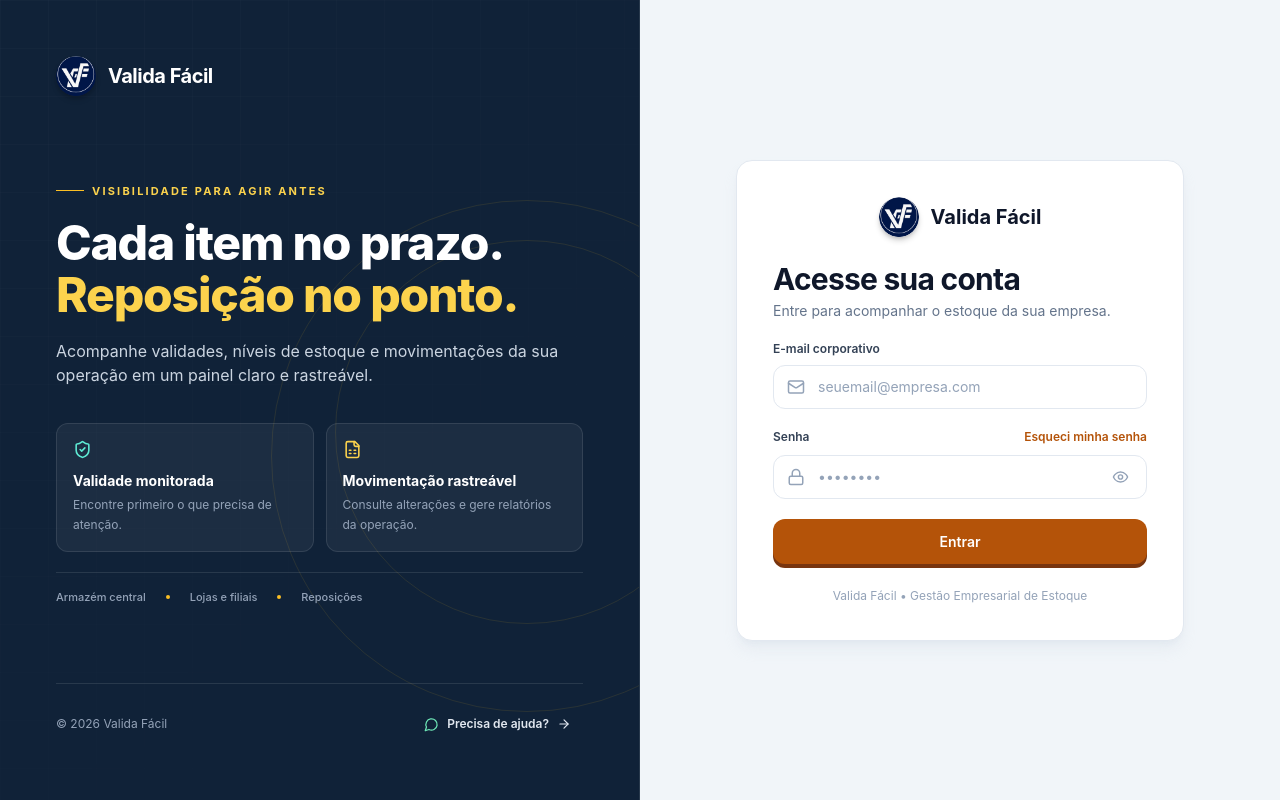
LoginPage › permite conferir e ocultar a senha usando um controle acessível
Check: the button "Entrar" is enabled, box [773, 518, 1147, 564]
Type "senha-segura" into the password field labelled "Senha" at coordinates (960, 476), box [773, 454, 1147, 498]
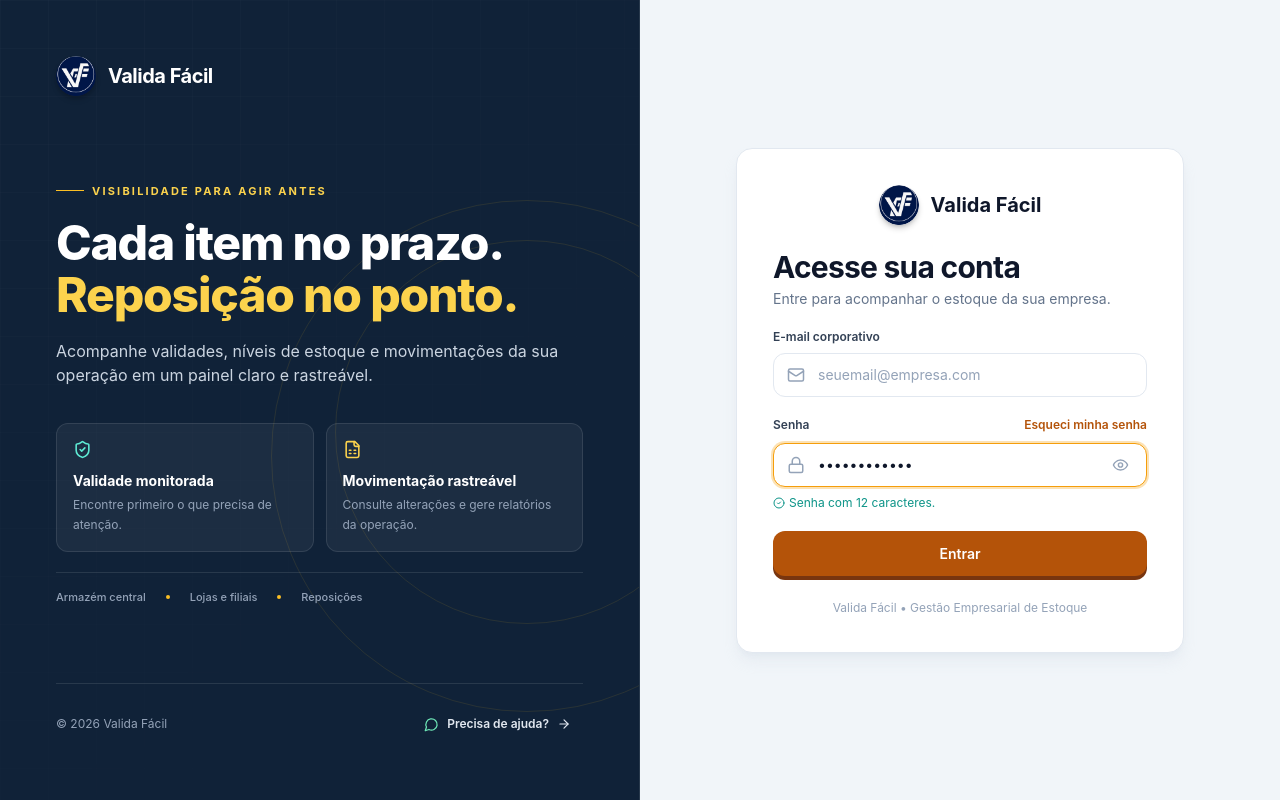
Click the button named "Mostrar senha" at coordinates (1120, 464), box [1108, 452, 1133, 477]
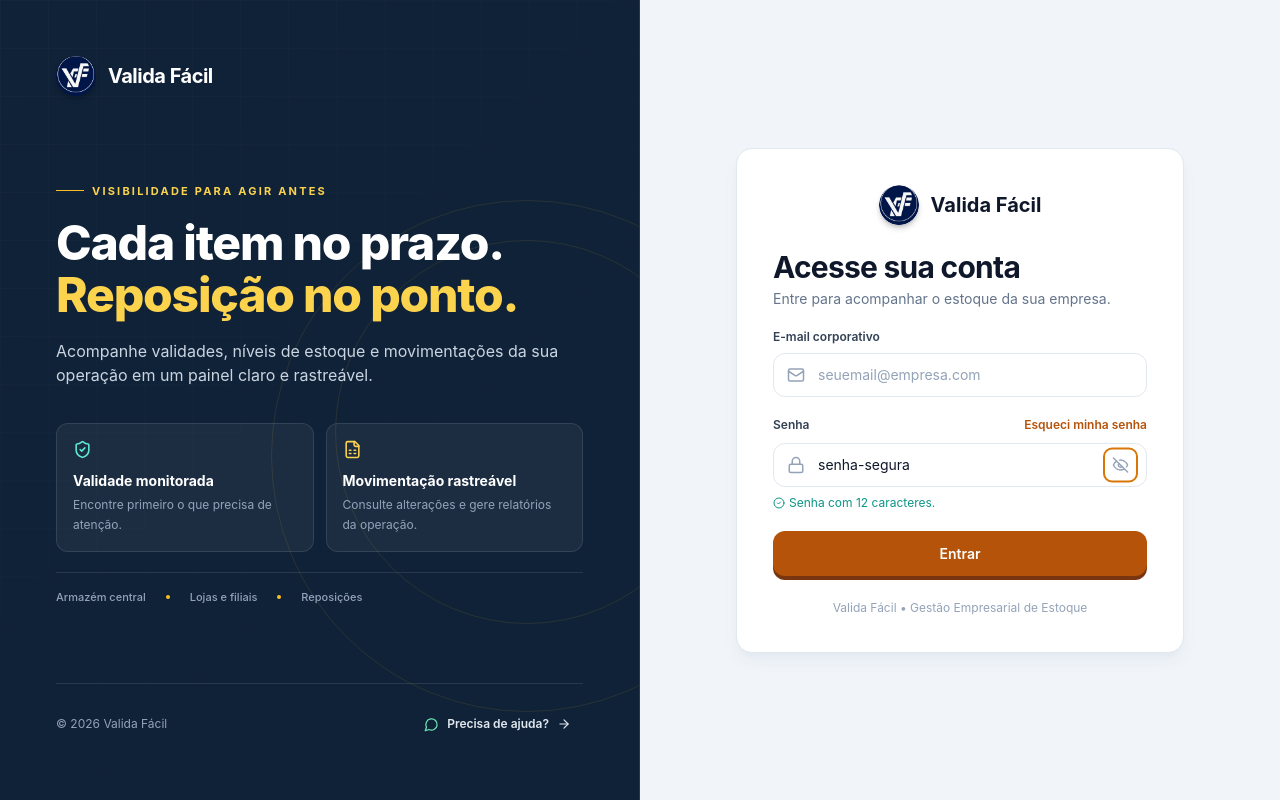
Check: the field labelled "Senha" shows its text, box [773, 442, 1147, 486]
Click the button named "Ocultar senha" at coordinates (1120, 464), box [1108, 452, 1133, 477]
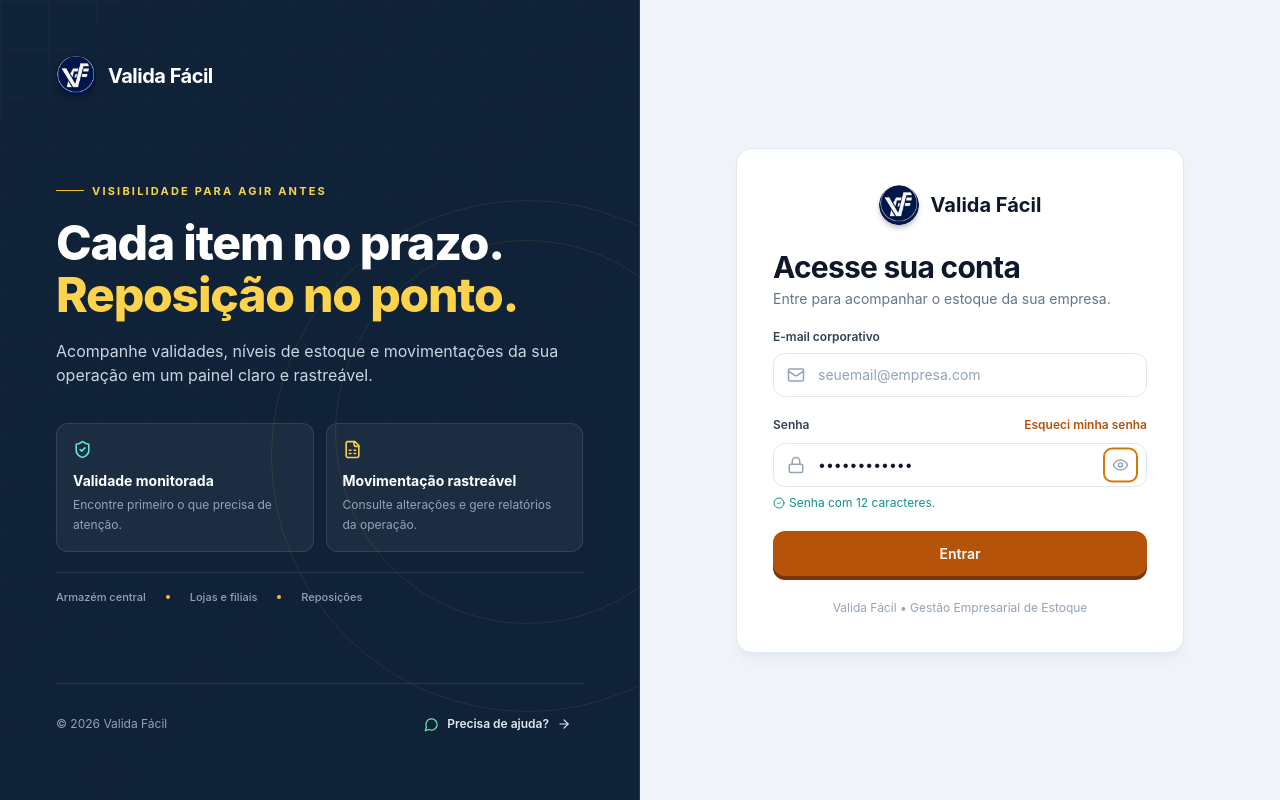
Check: the password field labelled "Senha" hides its text, box [773, 442, 1147, 486]
